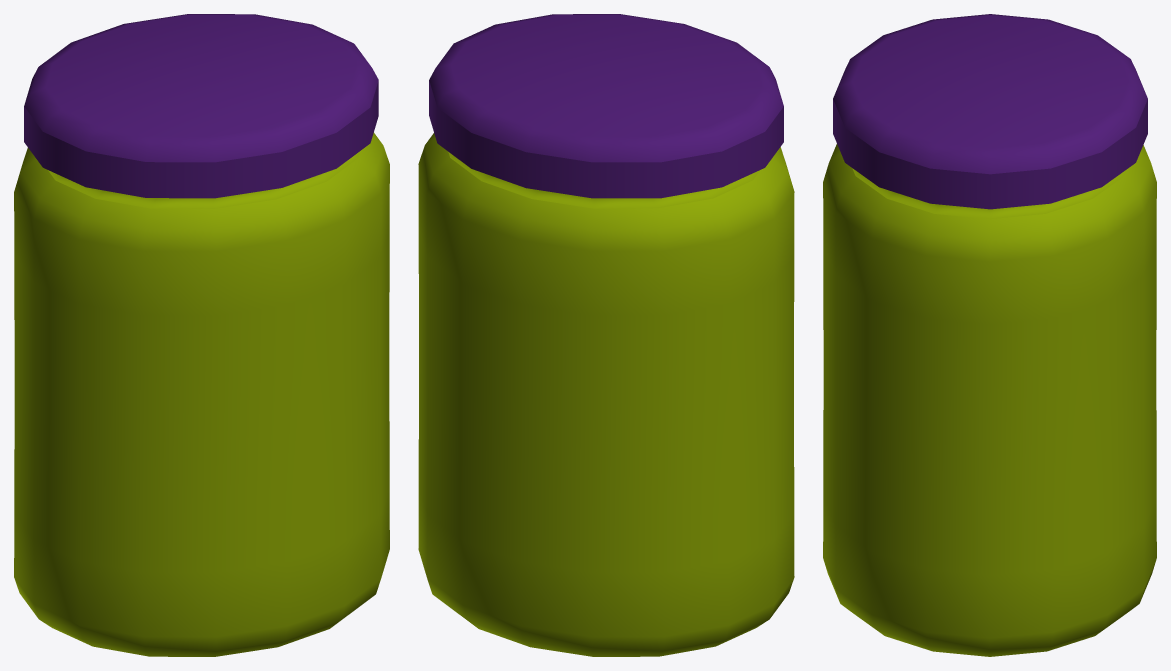
File: Assets_Pote01_15Dez25.fbx
3 renders of one model, left to right at view 1: azimuth 30°, elevation 25°; view 2: azimuth 150°, elevation 25°; view 3: azimuth 270°, elevation 25°, orthographic. The views are drawn at different scales.
Parts seen in each view (by area): view 1: Pote, Tampa; view 2: Pote, Tampa; view 3: Pote, Tampa.
Boxes of the visible parts, x1=… form: Pote: x1=14, y1=132, x2=389, y2=656; Tampa: x1=24, y1=14, x2=378, y2=198; Pote: x1=418, y1=133, x2=794, y2=656; Tampa: x1=429, y1=14, x2=783, y2=198; Pote: x1=823, y1=144, x2=1156, y2=656; Tampa: x1=833, y1=14, x2=1147, y2=209.
Size of the model in its own units: 12.85 by 19.01 by 11.32.
